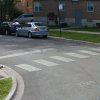Crosswalk: (11, 44, 92, 74)
